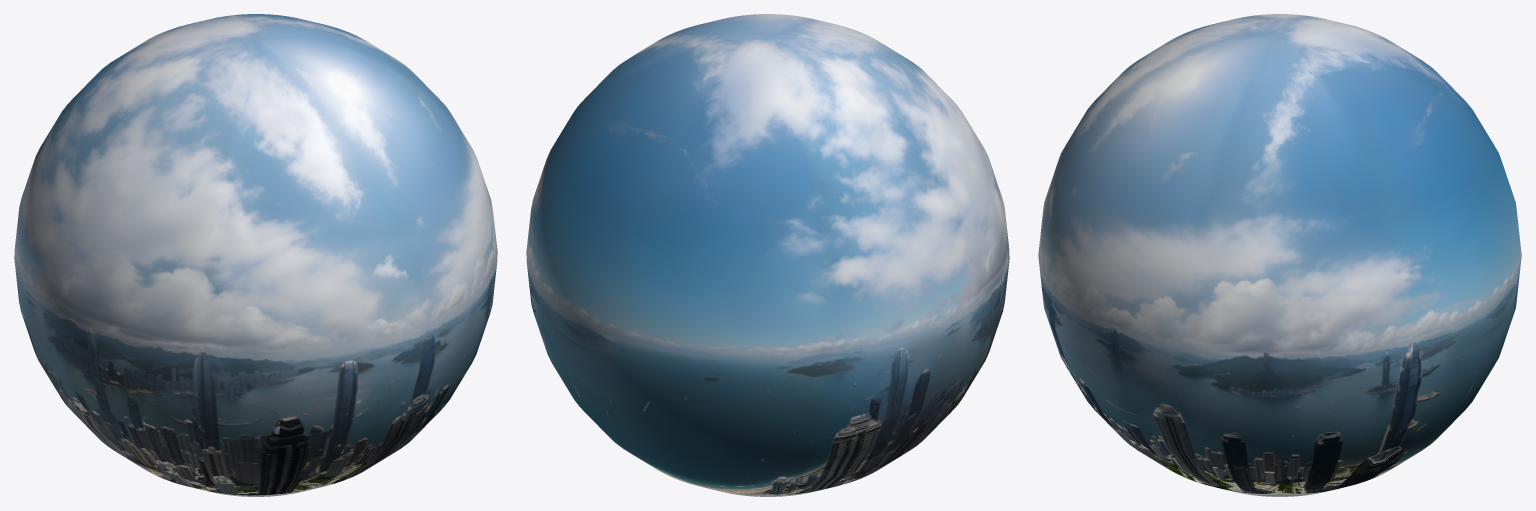
Rendered from Sky.glb.
3 renders of one model, left to right at view 1: azimuth 30°, elevation 25°; view 2: azimuth 150°, elevation 25°; view 3: azimuth 270°, elevation 25°, orthographic.
Parts seen in each view (by area): view 1: Сфера.005; view 2: Сфера.005; view 3: Сфера.005.
Boxes of the visible parts, bbox=[...] form: Сфера.005: bbox=[14, 14, 497, 496]; Сфера.005: bbox=[526, 14, 1009, 496]; Сфера.005: bbox=[1038, 14, 1521, 496].
Size of the model in its own units: 410 by 410 by 410.
1 material, 1 textured.
